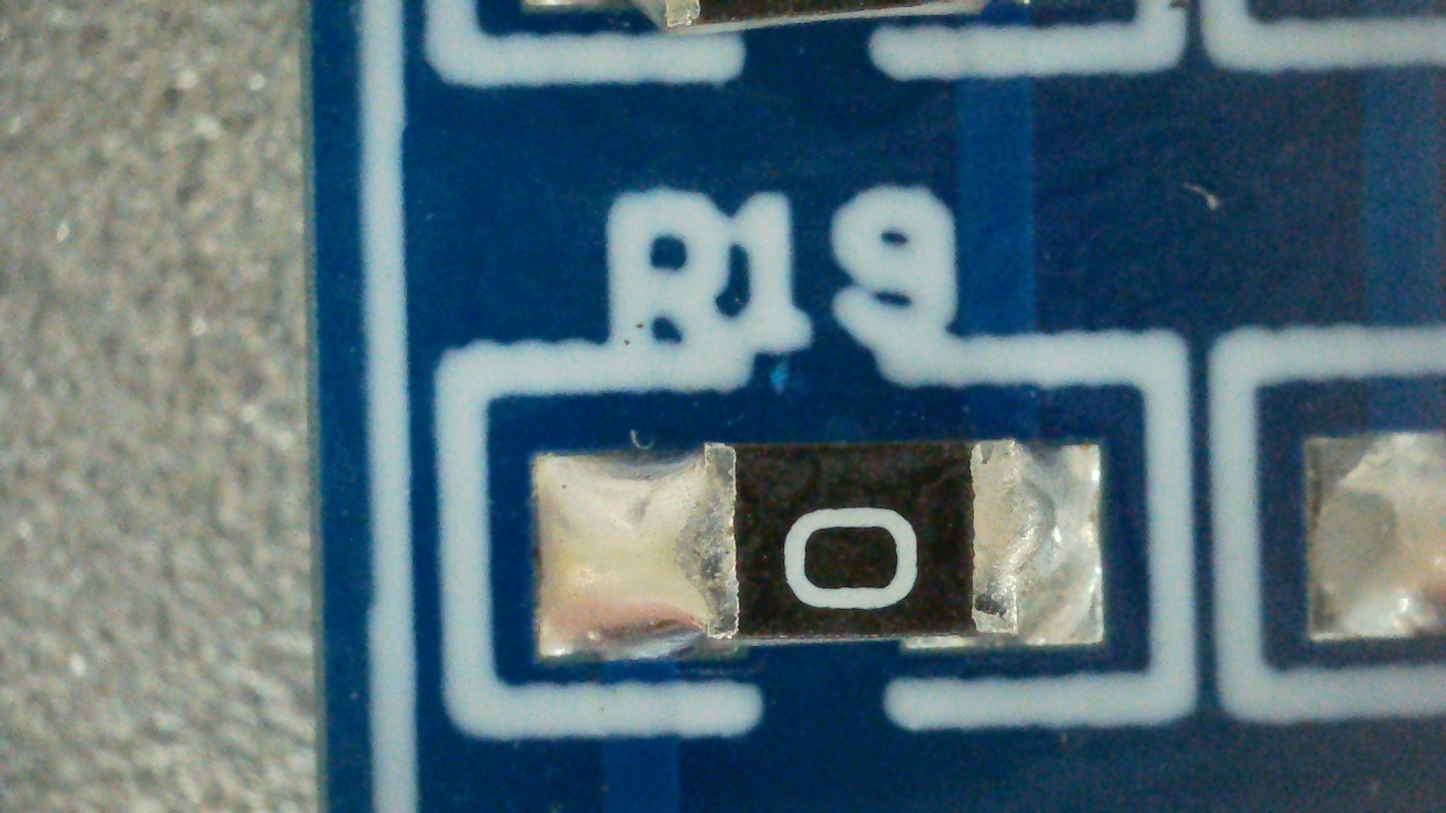OK: (536, 441, 1102, 657)
